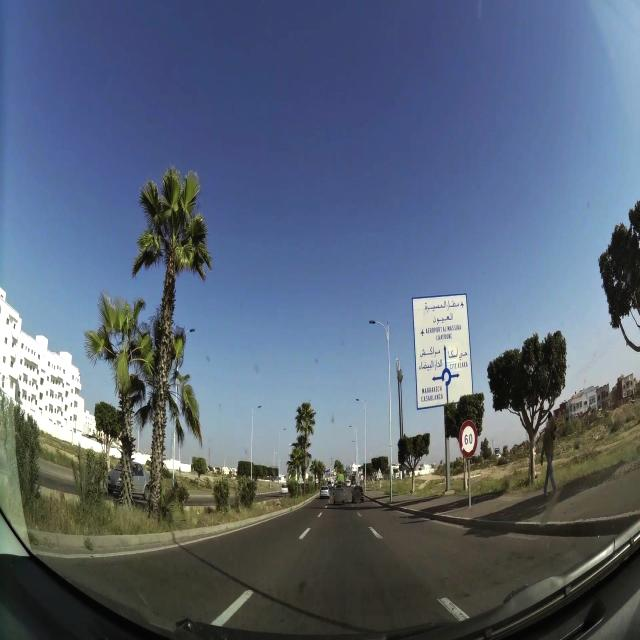car: (130, 460, 151, 500), (107, 466, 130, 497), (351, 484, 365, 504), (319, 484, 330, 499)
